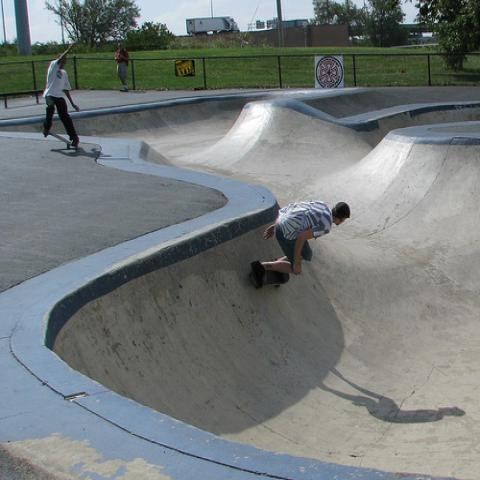truck: (185, 15, 240, 36)
